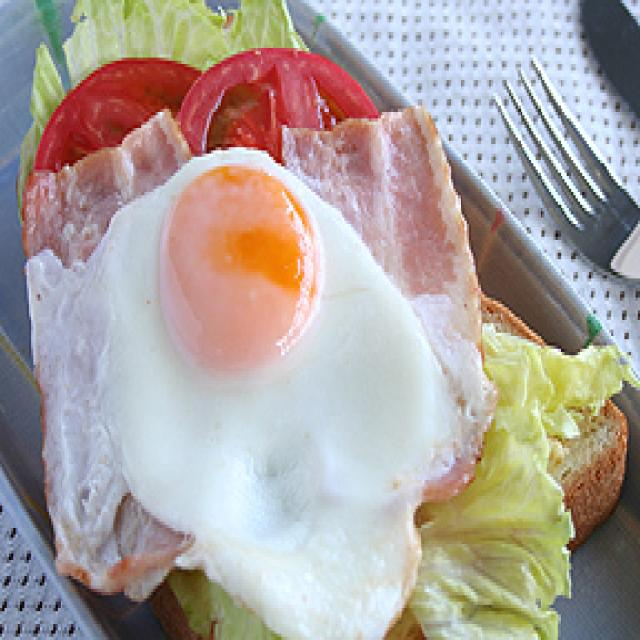面包点心: (0, 22, 620, 634)
